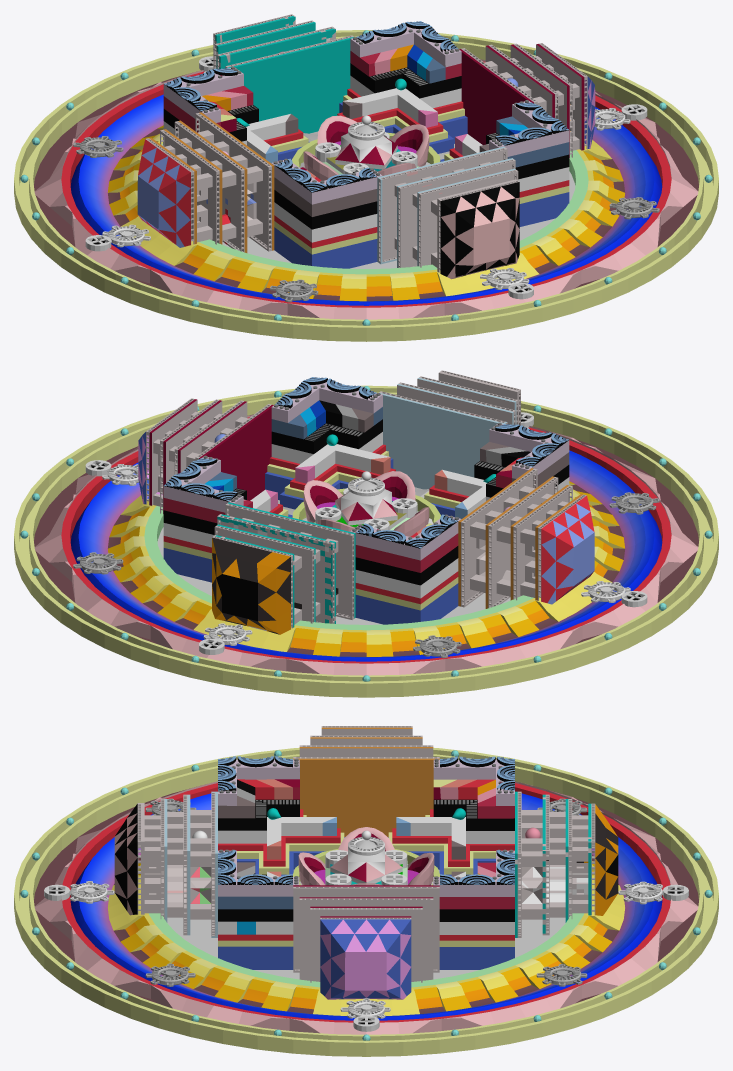
Rendered from wheel.fbx.
3 renders of one model, top to bottom at view 1: azimuth 30°, elevation 25°; view 2: azimuth 150°, elevation 25°; view 3: azimuth 270°, elevation 25°, orthographic.
Visible parts, largest first — view 1: Sixty_neonYellow, FourtyeightFifty_yellowRing, ThirtysevenFourtyone_blackTemple, FourtytwoFourtysix_redTenple, Fiftyeight_lightroseRing, rightTop, FirtyoneFiftyTwo_blueRING, TwentysevenThirtyone_orangeTemple, leftBottom, ThirtytwoThirtysix_blueTemple, rightBottom, leftTop (+17 smaller); view 2: Sixty_neonYellow, FourtyeightFifty_yellowRing, TwentysevenThirtyone_orangeTemple, FourtytwoFourtysix_redTenple, Fiftyeight_lightroseRing, FirtyoneFiftyTwo_blueRING, rightBottom, ThirtysevenFourtyone_blackTemple, leftTop, ThirtytwoThirtysix_blueTemple, rightTop, leftBottom (+17 smaller); view 3: Sixty_neonYellow, ThirtytwoThirtysix_blueTemple, FourtyeightFifty_yellowRing, FourtytwoFourtysix_redTenple, Fiftyeight_lightroseRing, ThirtysevenFourtyone_blackTemple, TwentysevenThirtyone_orangeTemple, leftBottom, leftTop, FirtyoneFiftyTwo_blueRING, rightBottom, rightTop (+14 smaller).
Part boxes in pixels (box(x1,y1,x2,y2)): Sixty_neonYellow: box(14, 30, 718, 341); FourtyeightFifty_yellowRing: box(107, 125, 625, 301); ThirtysevenFourtyone_blackTemple: box(377, 146, 519, 279); FourtytwoFourtysix_redTenple: box(137, 112, 274, 252); Fiftyeight_lightroseRing: box(34, 59, 698, 319); rightTop: box(337, 21, 467, 153); FirtyoneFiftyTwo_blueRING: box(70, 94, 662, 305); TwentysevenThirtyone_orangeTemple: box(213, 14, 353, 133); leftBottom: box(271, 158, 382, 268); ThirtytwoThirtysix_blueTemple: box(459, 43, 595, 158); rightBottom: box(440, 100, 569, 226); leftTop: box(163, 66, 309, 162); Sixty_neonYellow: box(14, 385, 718, 697); FourtyeightFifty_yellowRing: box(107, 481, 625, 656); TwentysevenThirtyone_orangeTemple: box(212, 502, 355, 634); FourtytwoFourtysix_redTenple: box(458, 468, 594, 608); Fiftyeight_lightroseRing: box(34, 414, 698, 675); FirtyoneFiftyTwo_blueRING: box(70, 450, 662, 661); rightBottom: box(265, 377, 395, 509); ThirtysevenFourtyone_blackTemple: box(379, 370, 520, 489); leftTop: box(350, 514, 461, 624); ThirtytwoThirtysix_blueTemple: box(138, 398, 273, 514); rightTop: box(163, 455, 292, 582); leftBottom: box(424, 422, 569, 518); Sixty_neonYellow: box(14, 747, 718, 1056); ThirtytwoThirtysix_blueTemple: box(293, 885, 439, 999); FourtyeightFifty_yellowRing: box(108, 855, 624, 1015); FourtytwoFourtysix_redTenple: box(293, 726, 439, 837); Fiftyeight_lightroseRing: box(34, 781, 698, 1034); ThirtysevenFourtyone_blackTemple: box(114, 791, 217, 937); TwentysevenThirtyone_orangeTemple: box(515, 791, 618, 937); leftBottom: box(218, 756, 344, 875); leftTop: box(388, 756, 514, 875); FirtyoneFiftyTwo_blueRING: box(70, 793, 662, 1020); rightBottom: box(218, 849, 299, 969); rightTop: box(433, 849, 514, 969).
Bounding box in the file's own units: 52.24 × 7.25 × 52.24.
